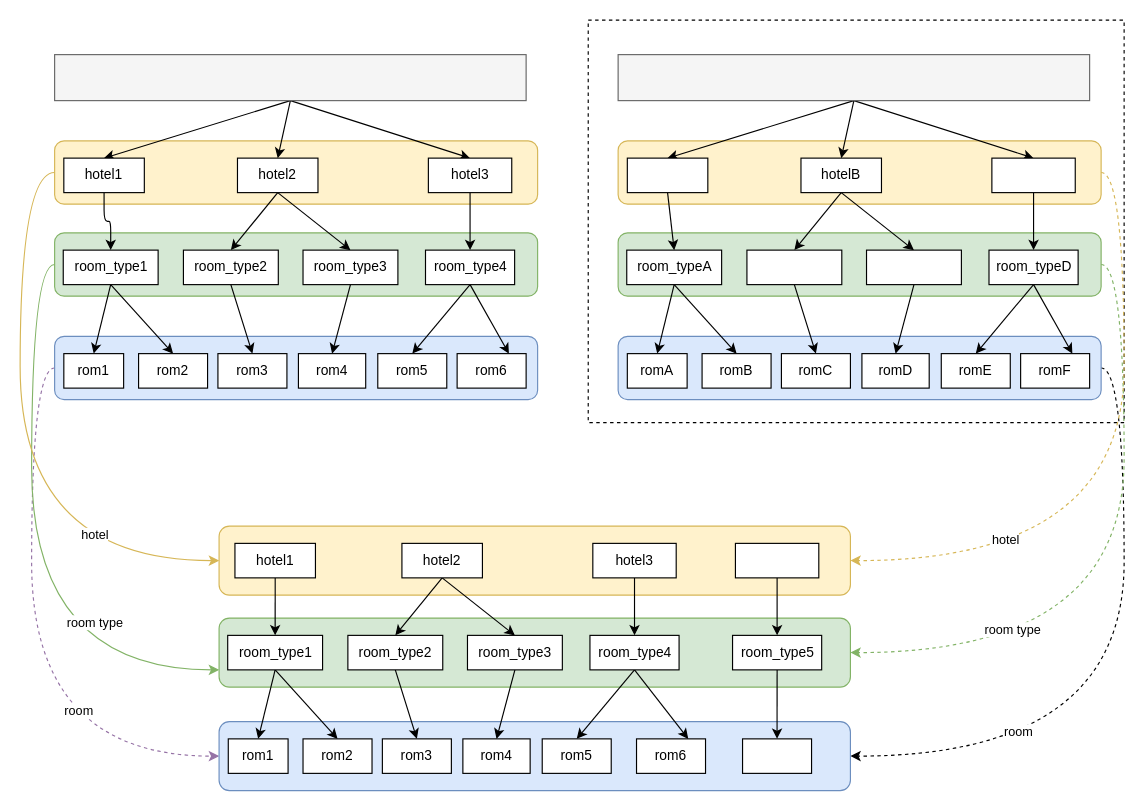
This 1144x811 diagram has some shape labels left out. The box of each missing label's shape, as (x1, y1, x2, y2) in pixels:
hotel4: (734, 542, 819, 578)
hotelA: (626, 157, 708, 193)
hotelC: (991, 157, 1075, 193)
rom7: (741, 738, 812, 773)
room_typeB: (746, 249, 842, 285)
room_typeC: (865, 249, 961, 285)
Supplier(Agoda): (53, 53, 526, 101)
SupplierX: (617, 53, 1090, 101)
